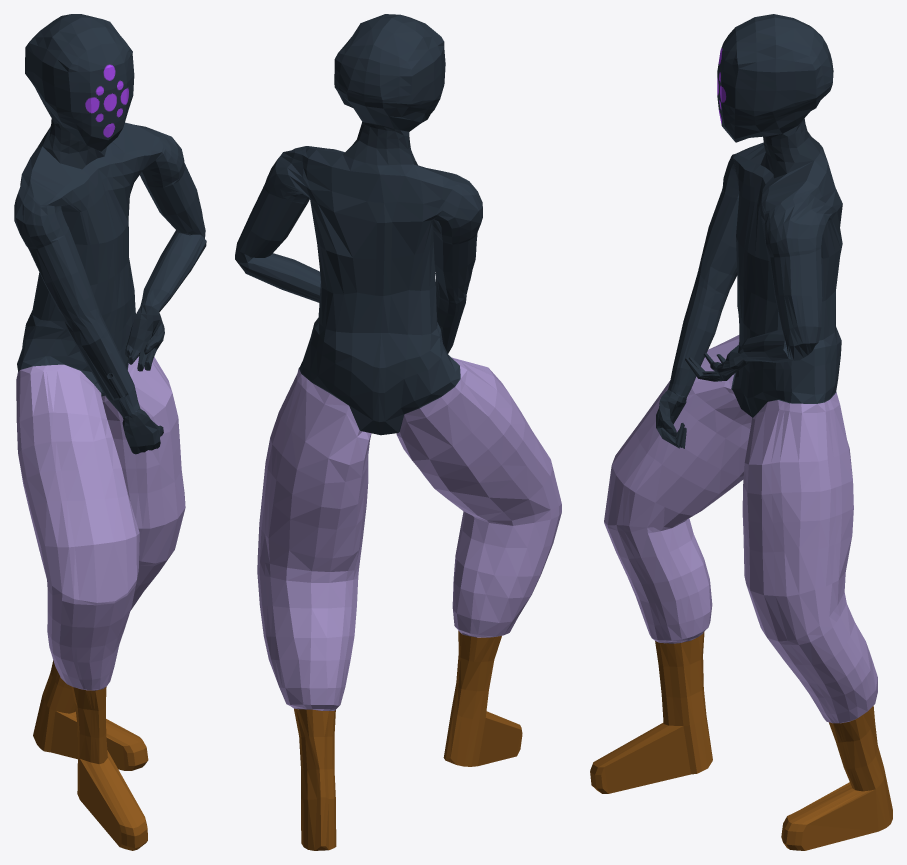
The model's file is Oracle_WF_000007.obj.
3 renders of one model, left to right at view 1: azimuth 30°, elevation 25°; view 2: azimuth 150°, elevation 25°; view 3: azimuth 270°, elevation 25°, orthographic. The views are drawn at different scales.
Visible parts, largest first — view 1: Cube; view 2: Cube; view 3: Cube.
Boxes of the visible parts, <box> form: Cube: <box>14,14,206,850</box>; Cube: <box>235,14,561,850</box>; Cube: <box>590,14,892,850</box>.
Bounding box in the file's own units: 1.2 × 3.83 × 1.32.
